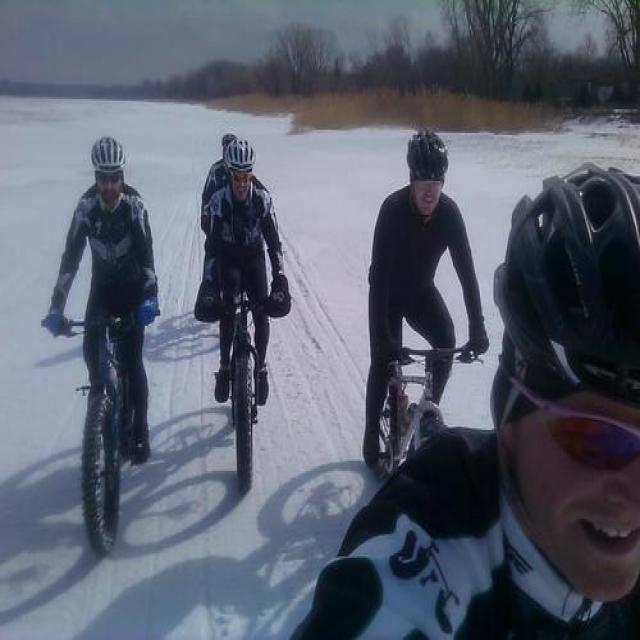bikerider: (343, 99, 488, 522), (37, 116, 168, 550), (191, 123, 292, 502)
